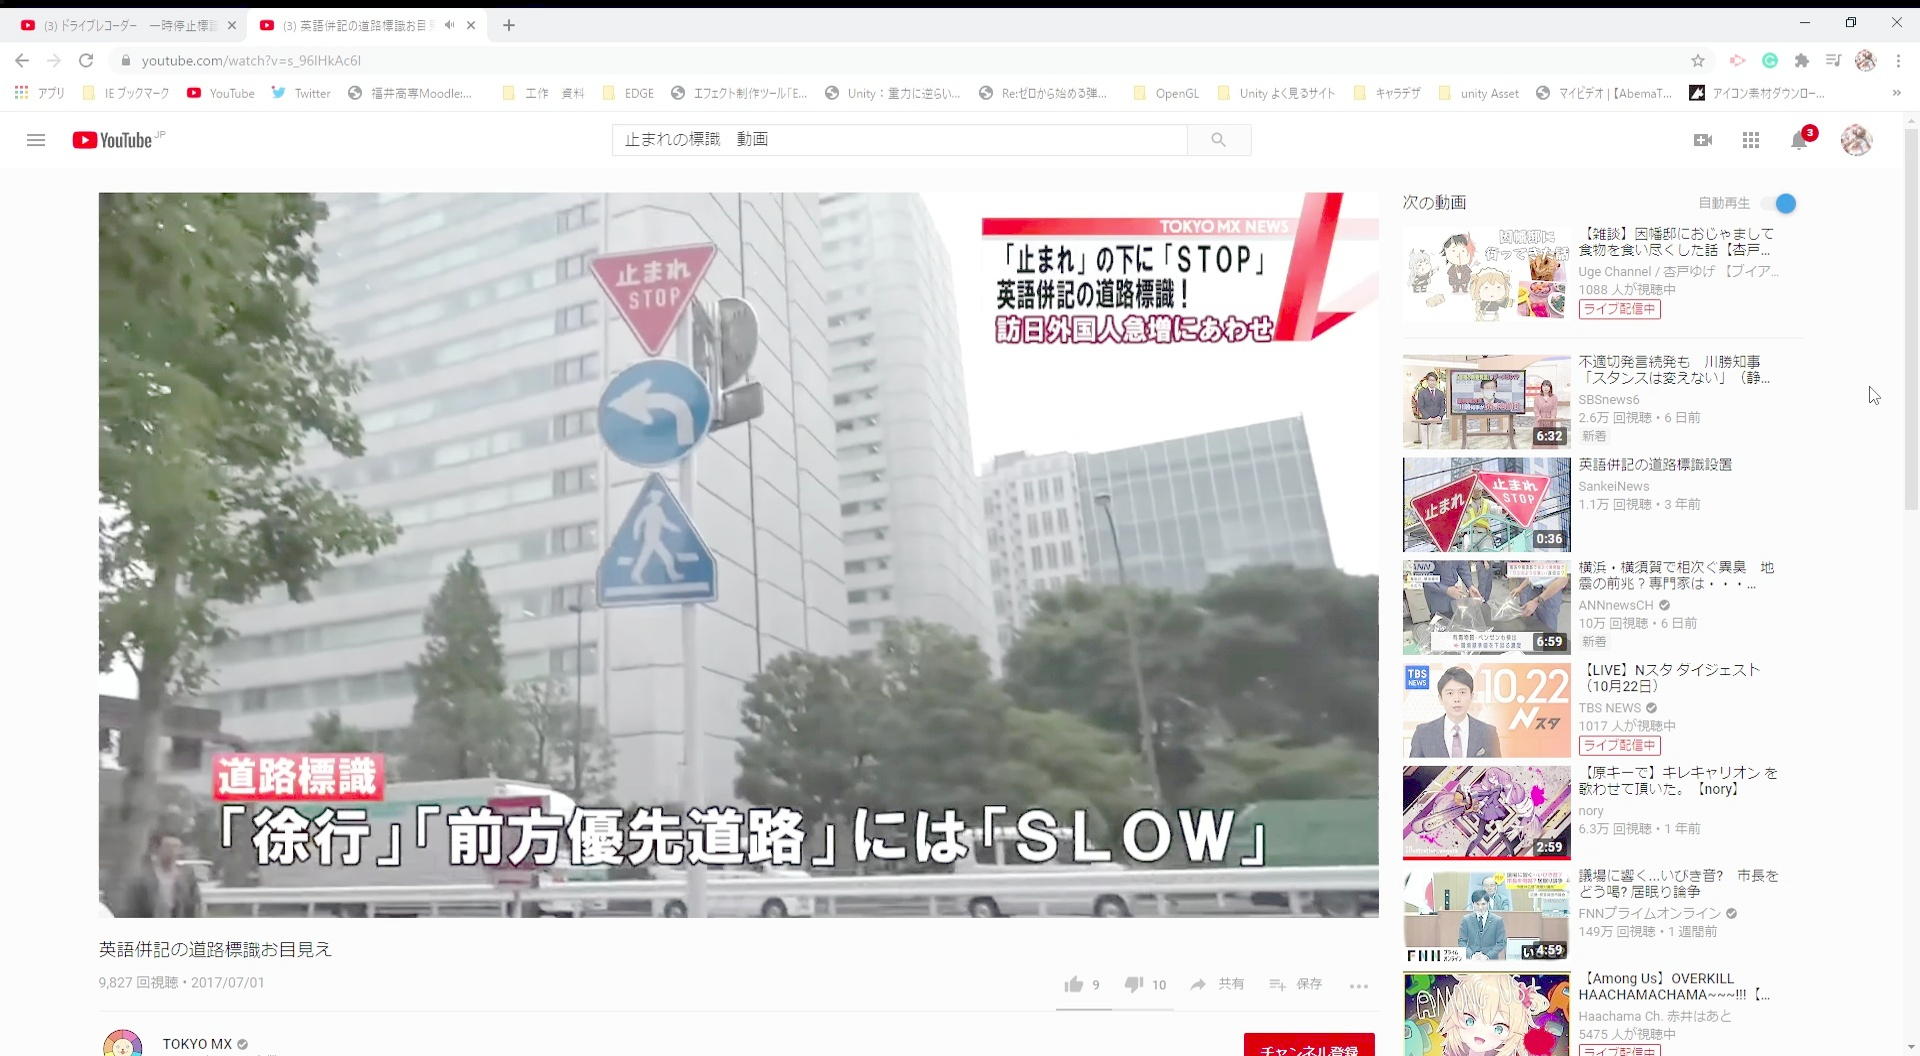Regulatory_sign_triangle: (581, 231, 719, 359)
